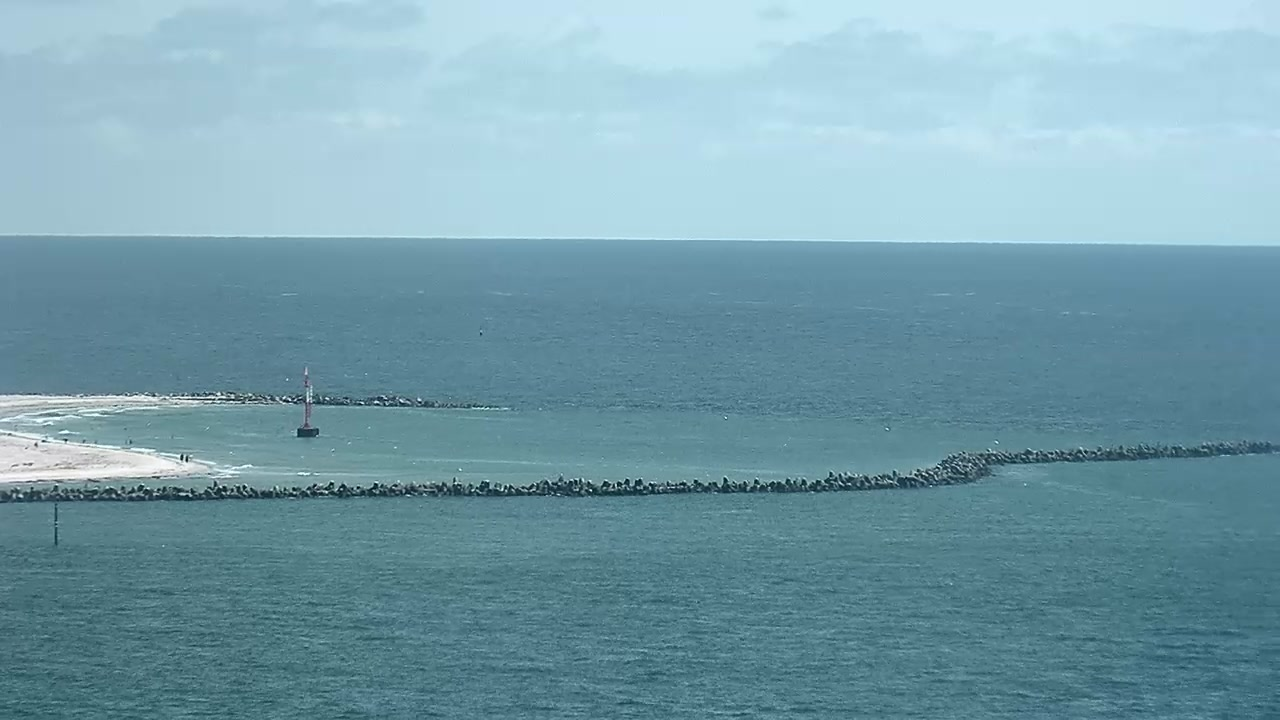human: (33, 439, 38, 448), (180, 453, 184, 462), (185, 455, 189, 463), (64, 438, 68, 444)
